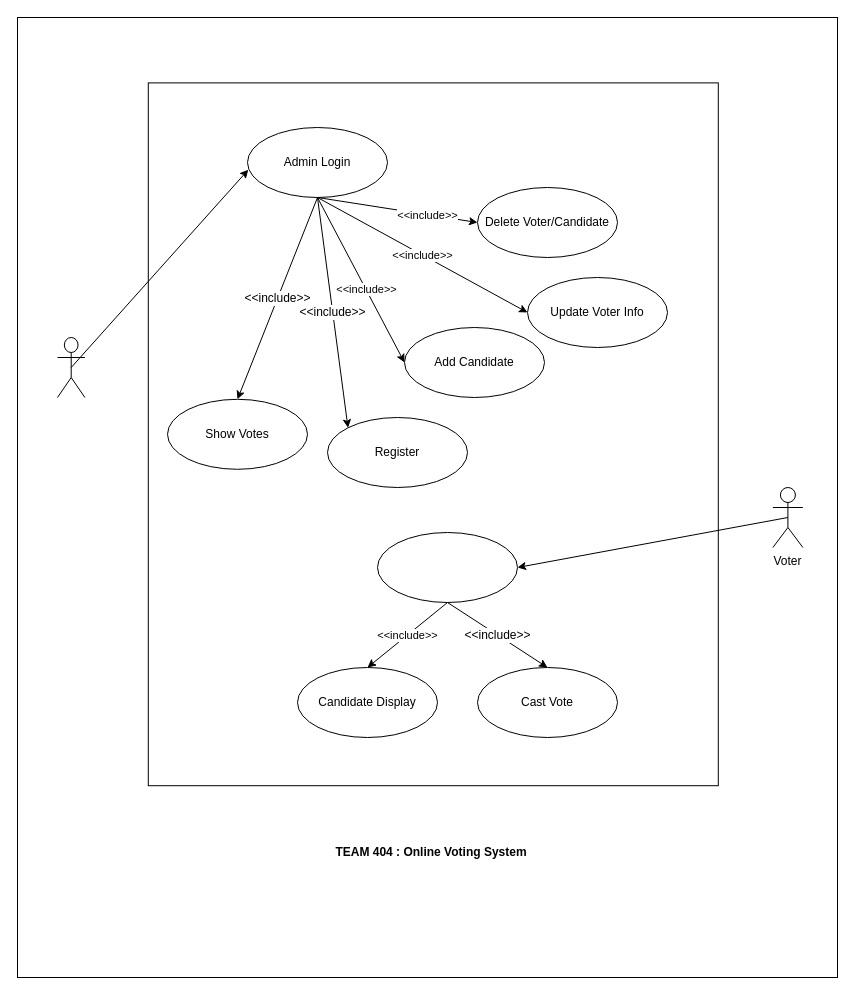
The diagram is 855 pixels wide and 995 high, and some of its shapes have lost their labels. The box of each missing label's shape, as (x1, y1, x2, y2) in pixels:
Admin: (56, 336, 85, 398)
Online Voting System: (147, 82, 718, 786)
Voters Login: (376, 532, 518, 602)
